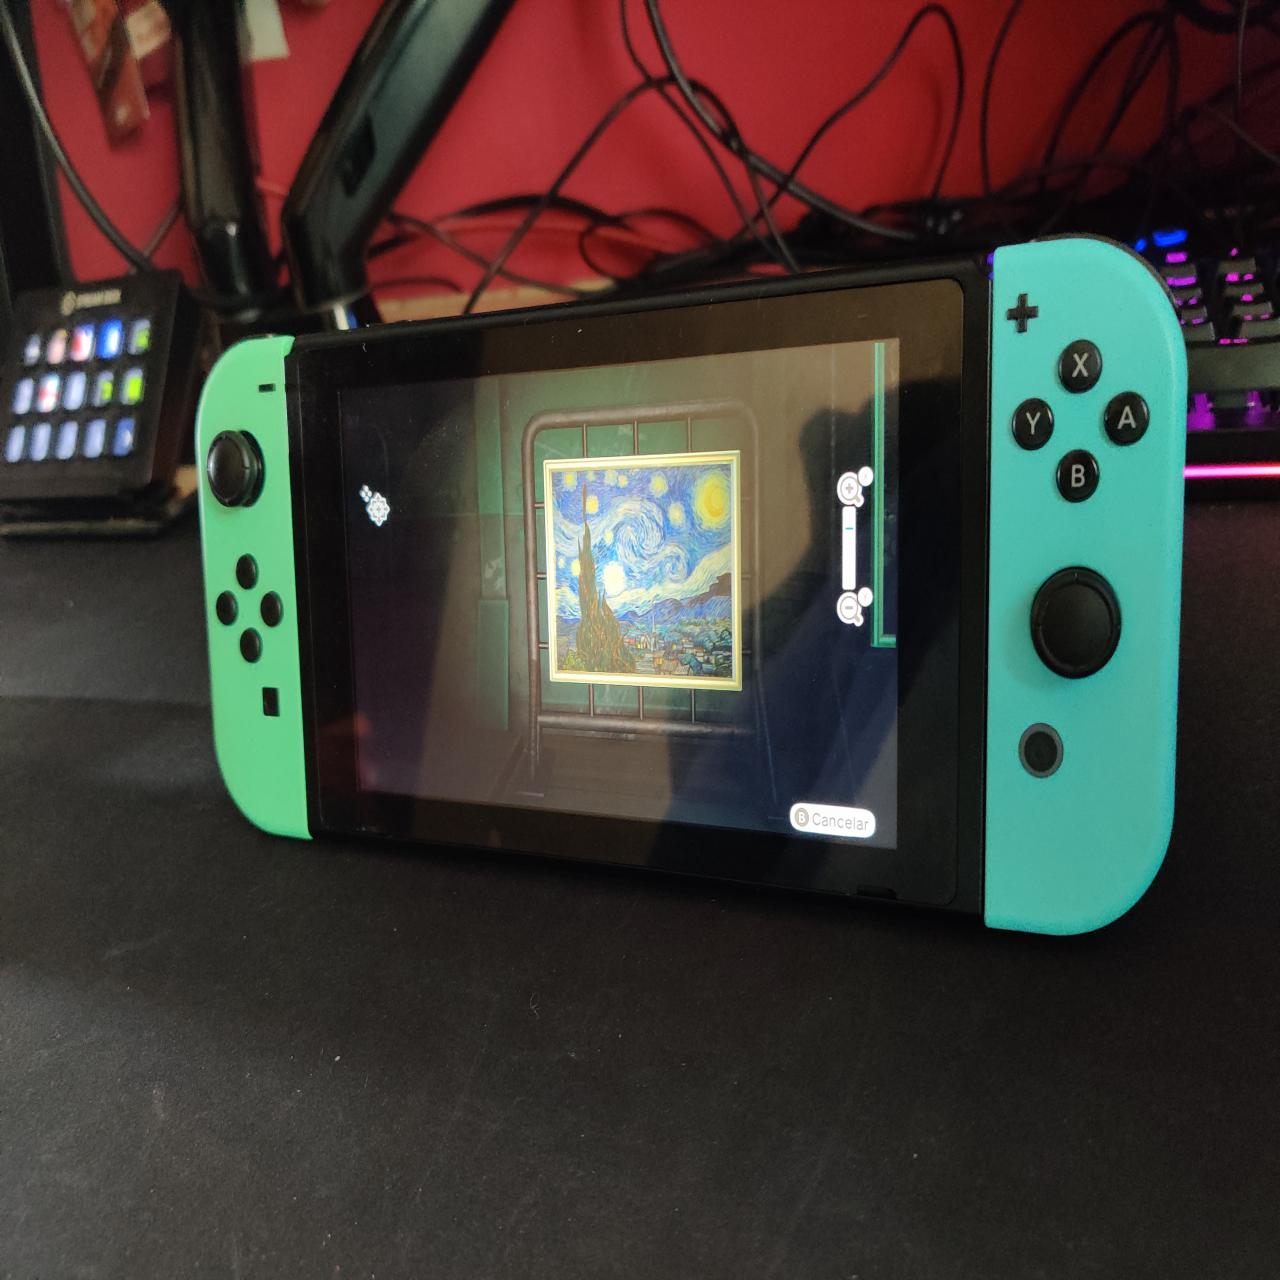StarryNight: (552, 470, 736, 675)
